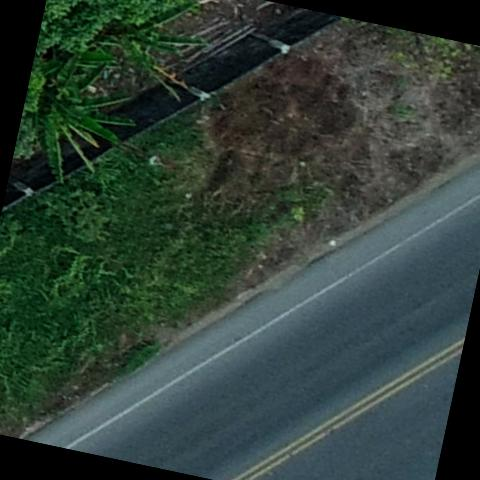Banana-plant: (77, 0, 230, 118), (18, 57, 138, 186)
